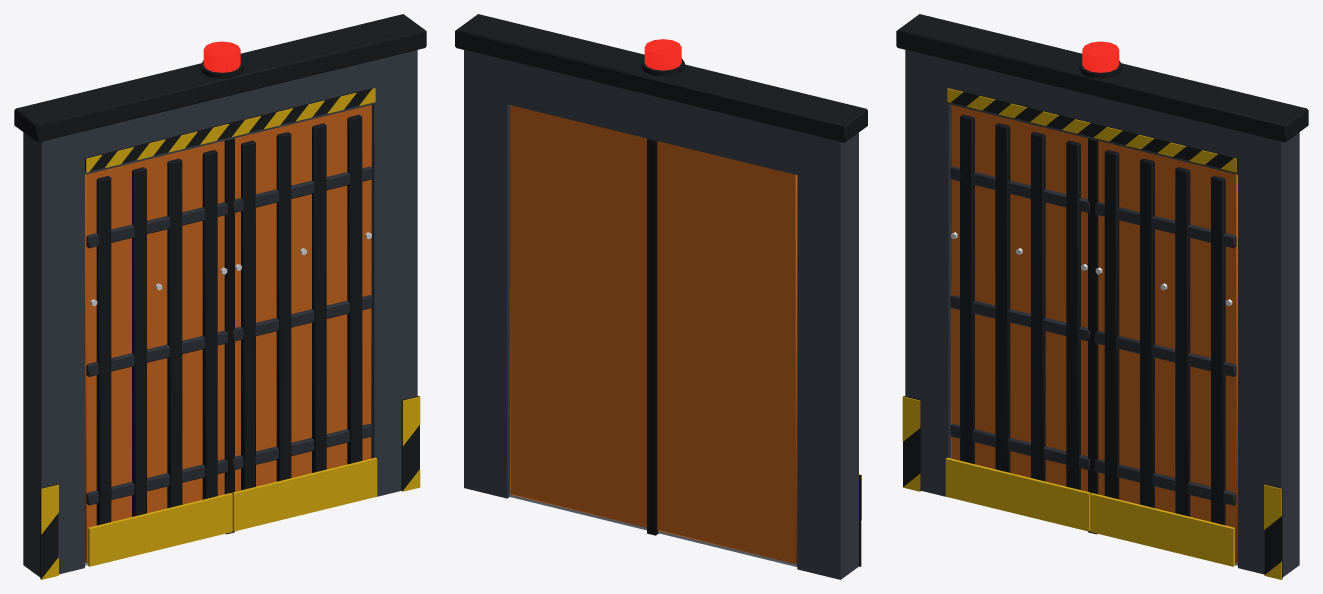
The model's file is door_hangar_pressure.glb.
3 views of the same model, side by side, from view 1: azimuth 30°, elevation 25°; view 2: azimuth 150°, elevation 25°; view 3: azimuth 330°, elevation 25° (orthographic).
Parts seen in each view (by area): view 1: body, leaf_l, leaf_r; view 2: body, leaf_l, leaf_r; view 3: body, leaf_r, leaf_l.
Part boxes in pixels (x1=…): body: x1=14, y1=14, x2=426, y2=579; leaf_l: x1=85, y1=139, x2=232, y2=566; leaf_r: x1=229, y1=105, x2=377, y2=533; body: x1=455, y1=14, x2=867, y2=579; leaf_l: x1=650, y1=139, x2=797, y2=564; leaf_r: x1=510, y1=105, x2=653, y2=534; body: x1=896, y1=14, x2=1308, y2=579; leaf_r: x1=1090, y1=139, x2=1237, y2=566; leaf_l: x1=945, y1=105, x2=1093, y2=533.
Bounding box in the file's own units: 2.7 × 3.16 × 0.295.
